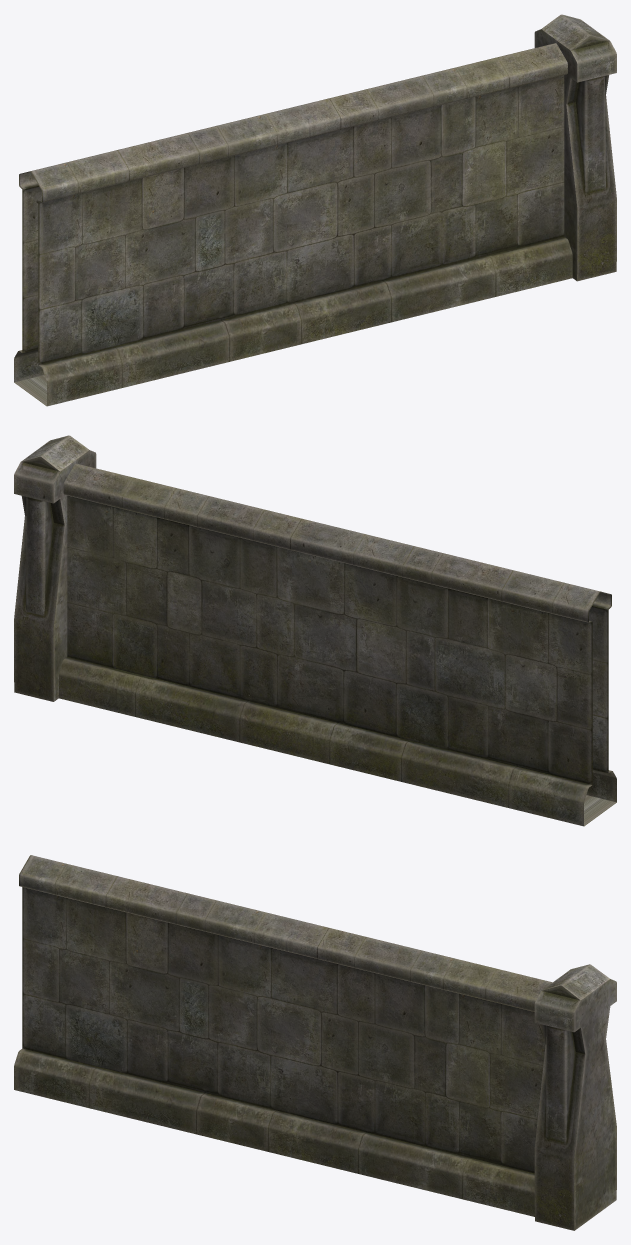
Rendered from medieval-wall.glb.
The picture shows the model from 3 angles, top to bottom: view 1: azimuth 30°, elevation 25°; view 2: azimuth 150°, elevation 25°; view 3: azimuth 330°, elevation 25°; orthographic projection.
Visible parts, largest first — view 1: medieval_wall; view 2: medieval_wall; view 3: medieval_wall.
Part boxes in pixels (bbox=[...]): medieval_wall: bbox=[14, 14, 616, 406]; medieval_wall: bbox=[14, 435, 616, 826]; medieval_wall: bbox=[14, 855, 616, 1230].
Bounding box in the file's own units: 7.46 × 2.97 × 0.9769.
Materials: 1 (1 with a texture image).
